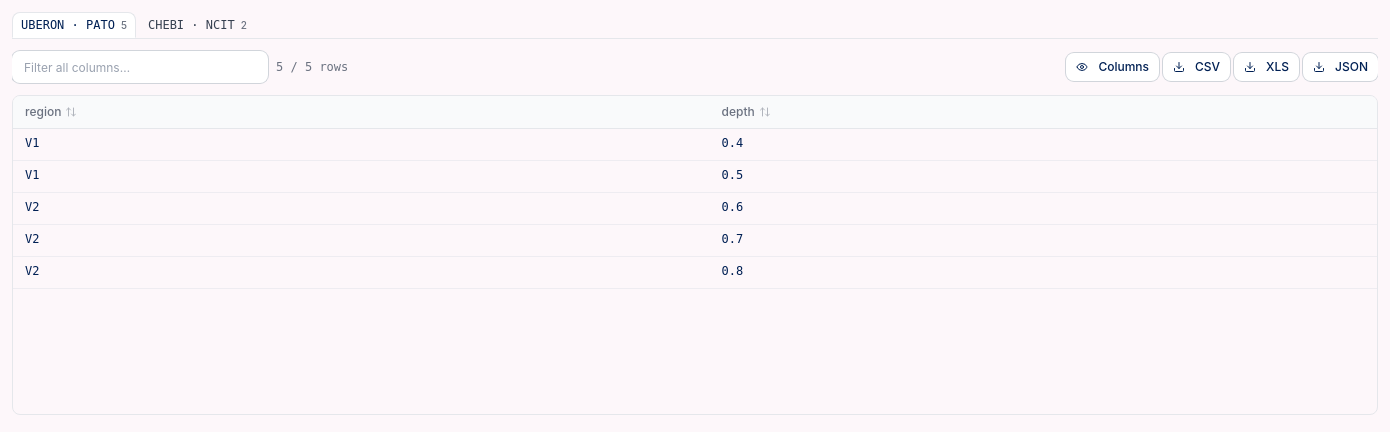
Test: OntologyTablesView — Phase 6.6 REBUILD-7 › renders a picker for multiple groups; clicking a tab switches the active table
The width and height of the screenshot is (1390, 432).
Check: the text "region" is shown, box [25, 104, 61, 120]
Check: the tab "UBERON · PATO 5" is shown, box [12, 12, 136, 38]
# Click the second group's tab.
Click the tab "CHEBI · NCIT 2".
click(197, 24)  # box [140, 12, 255, 37]
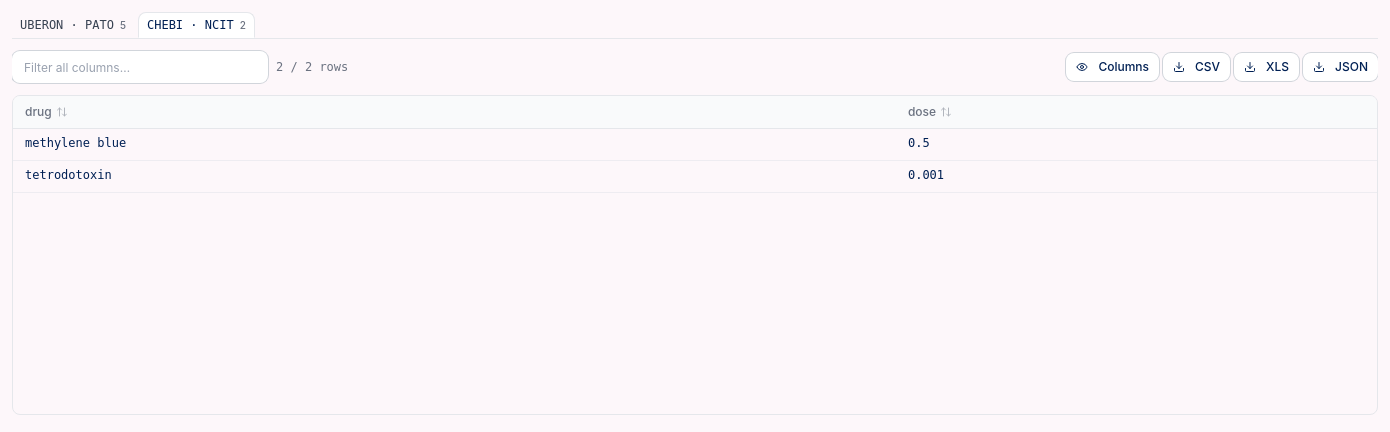
Check: the text "drug" is shown, box [25, 104, 52, 120]
